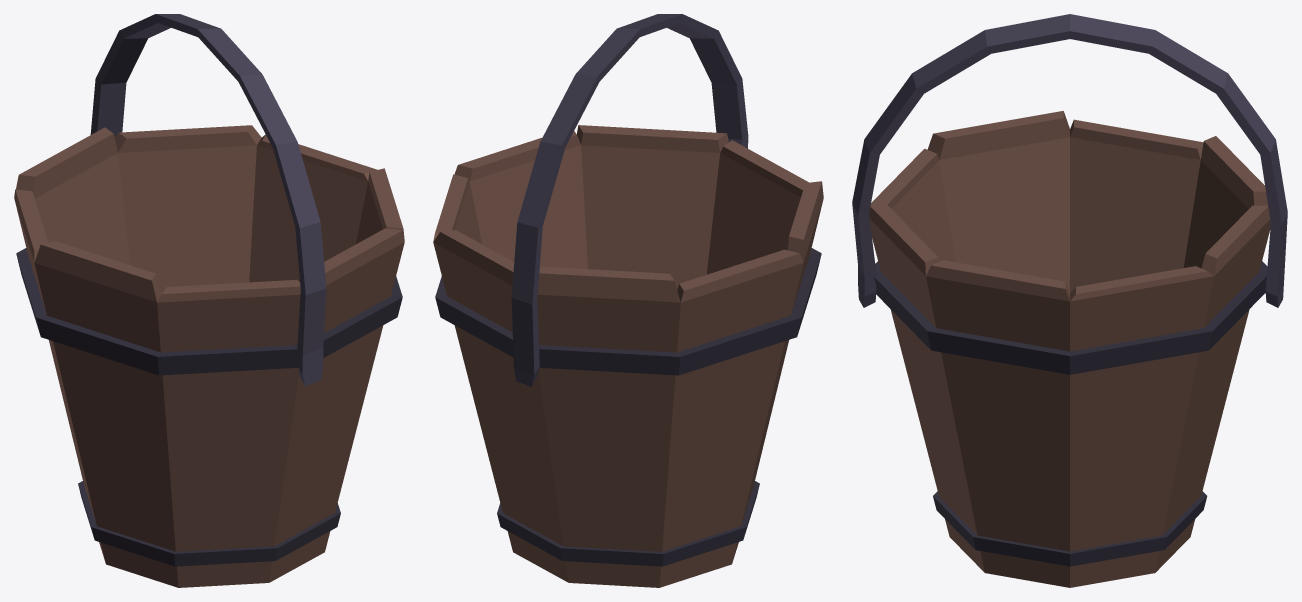
Rendered from Bucket.glb.
The picture shows the model from 3 angles, left to right: view 1: azimuth 30°, elevation 25°; view 2: azimuth 150°, elevation 25°; view 3: azimuth 270°, elevation 25°; orthographic projection.
Visible parts, largest first — view 1: Bucket; view 2: Bucket; view 3: Bucket.
Boxes of the visible parts, bbox=[...] form: Bucket: bbox=[14, 14, 404, 587]; Bucket: bbox=[433, 14, 823, 587]; Bucket: bbox=[852, 14, 1287, 587].
Bounding box in the file's own units: 0.3782 × 0.5294 × 0.4041.
